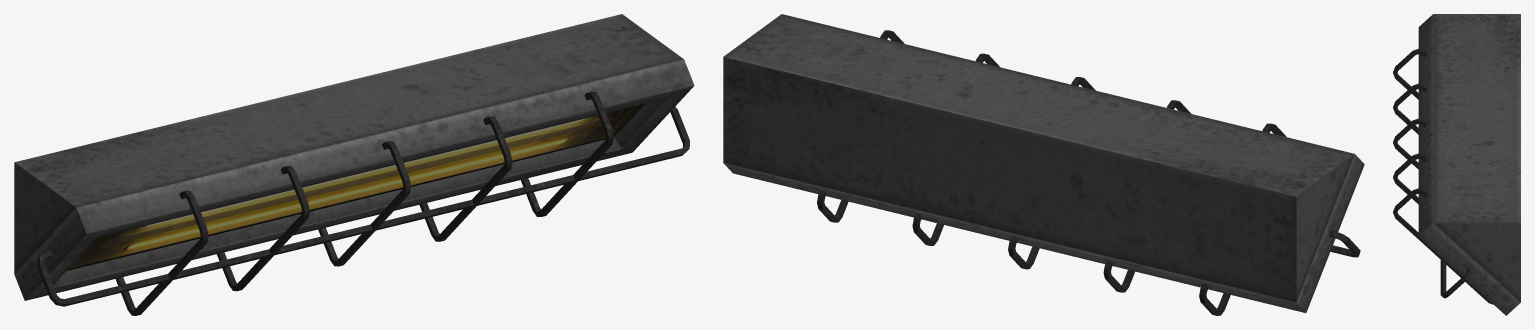
Rendered from lamp_3_1_on.obj.
3 views of the same model, side by side, from view 1: azimuth 30°, elevation 25°; view 2: azimuth 150°, elevation 25°; view 3: azimuth 270°, elevation 25° (orthographic). The views are drawn at different scales.
Parts seen in each view (by area): view 1: lamp_3_1_on, lamp_3_1_on_protector; view 2: lamp_3_1_on, lamp_3_1_on_protector; view 3: lamp_3_1_on, lamp_3_1_on_protector.
Boxes of the visible parts, <box> form: lamp_3_1_on: <box>14,14,694,300</box>; lamp_3_1_on_protector: <box>37,91,689,315</box>; lamp_3_1_on: <box>723,14,1364,312</box>; lamp_3_1_on_protector: <box>817,30,1360,315</box>; lamp_3_1_on: <box>1418,14,1520,315</box>; lamp_3_1_on_protector: <box>1393,48,1493,304</box>.
Size of the model in its own units: 1.26 by 0.3092 by 0.3092.
